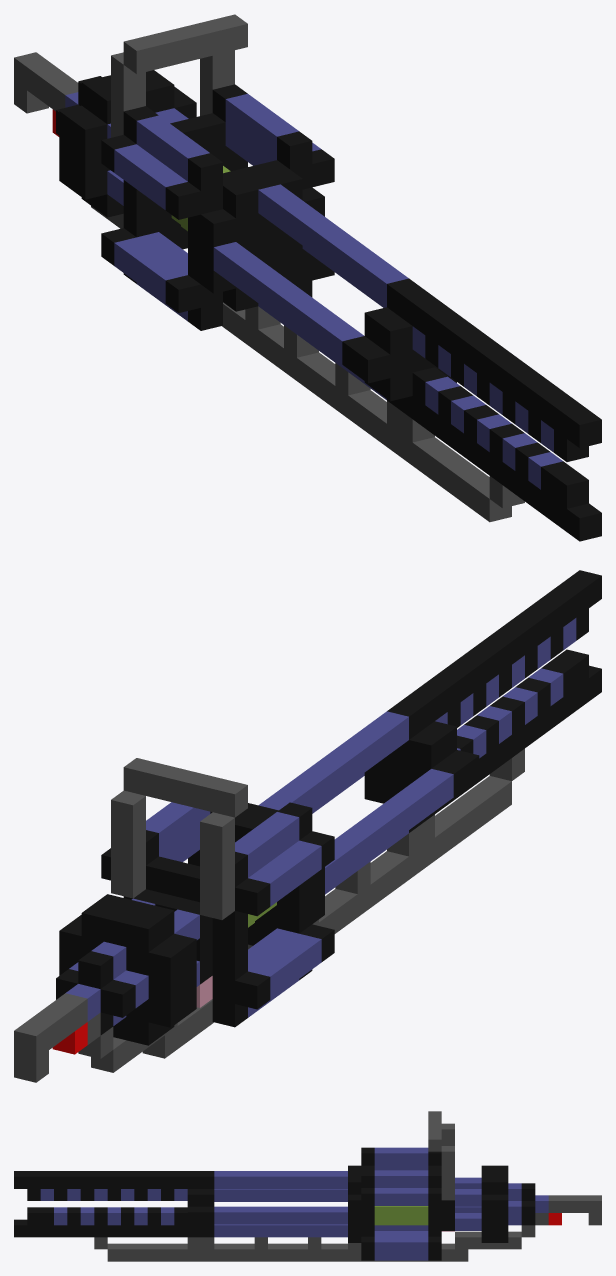
The model's file is Laser.obj.
The picture shows the model from 3 angles, top to bottom: view 1: azimuth 30°, elevation 25°; view 2: azimuth 150°, elevation 25°; view 3: azimuth 270°, elevation 25°; orthographic projection. The views are drawn at different scales.
Parts seen in each view (by area): view 1: Laser; view 2: Laser; view 3: Laser.
Part boxes in pixels (bbox=[...]): Laser: bbox=[14, 14, 601, 541]; Laser: bbox=[14, 570, 601, 1082]; Laser: bbox=[14, 1111, 601, 1261].
Bounding box in the file's own units: 7 × 11 × 44.
1 material, 1 textured.
